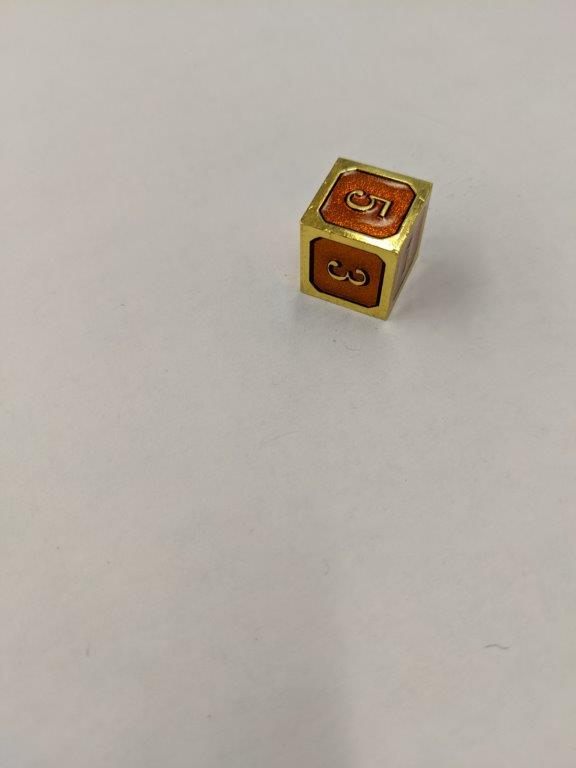d6-5: (301, 154, 433, 324)
